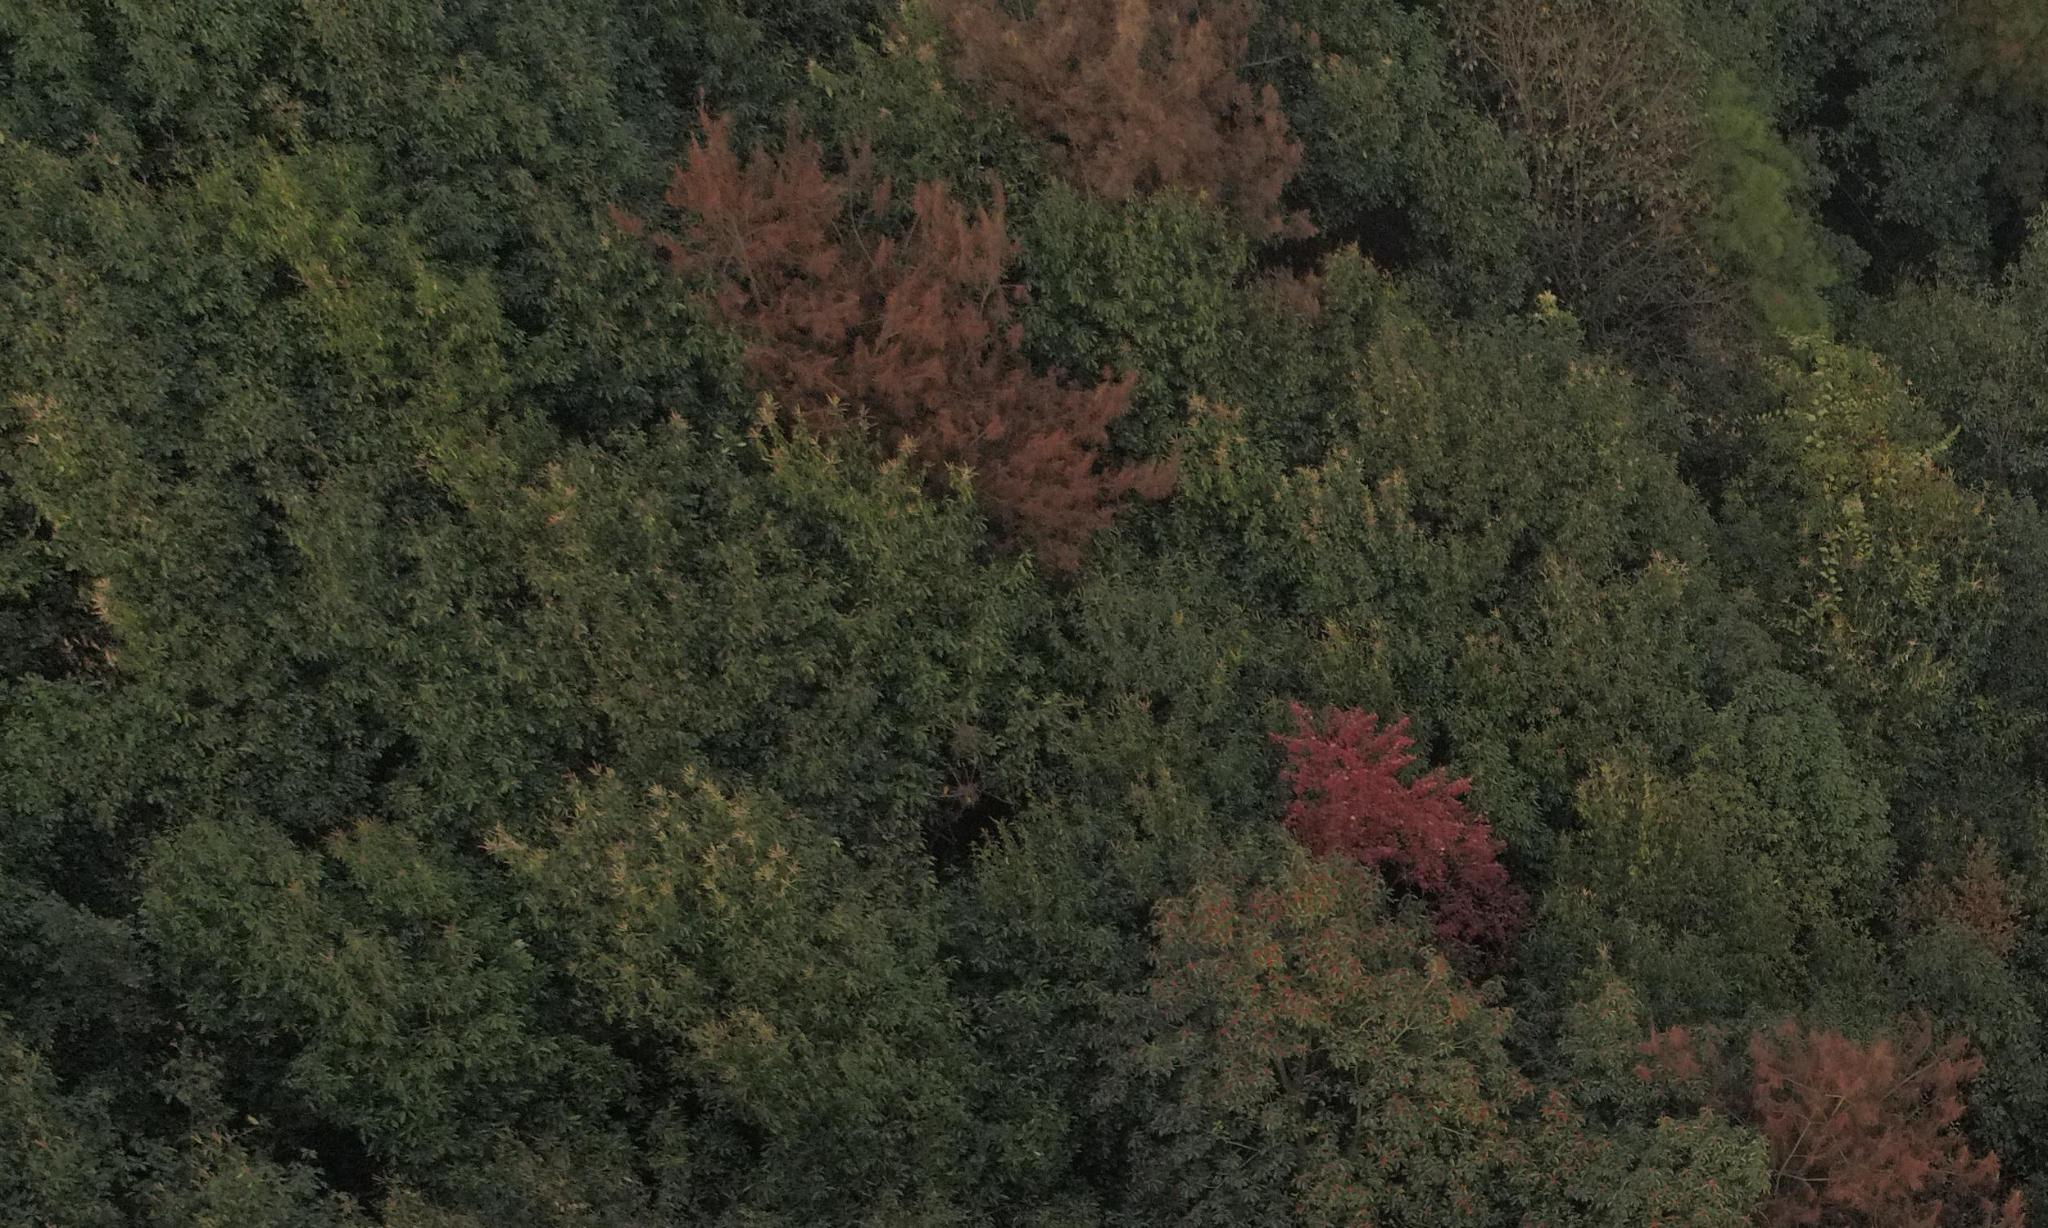heavy: (960, 1, 1321, 238), (645, 132, 905, 439), (924, 265, 1178, 577), (1706, 1007, 2017, 1213)
